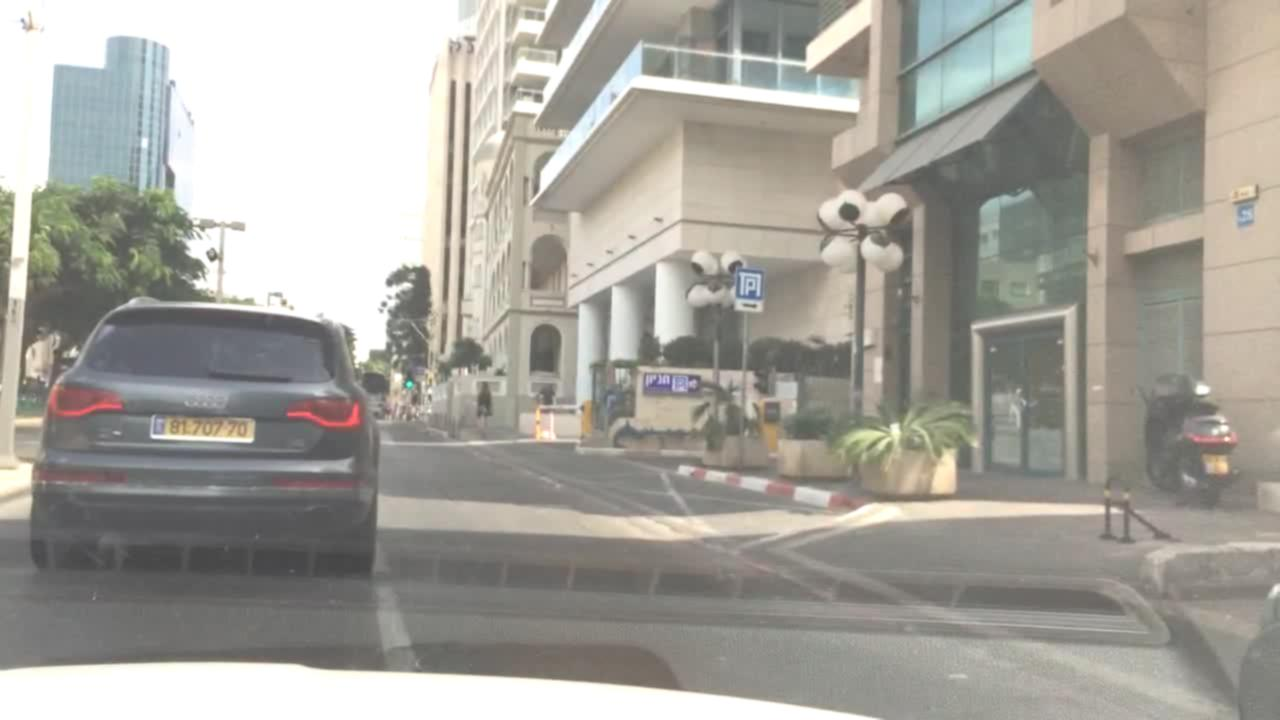Audi: (185, 393, 230, 412)
